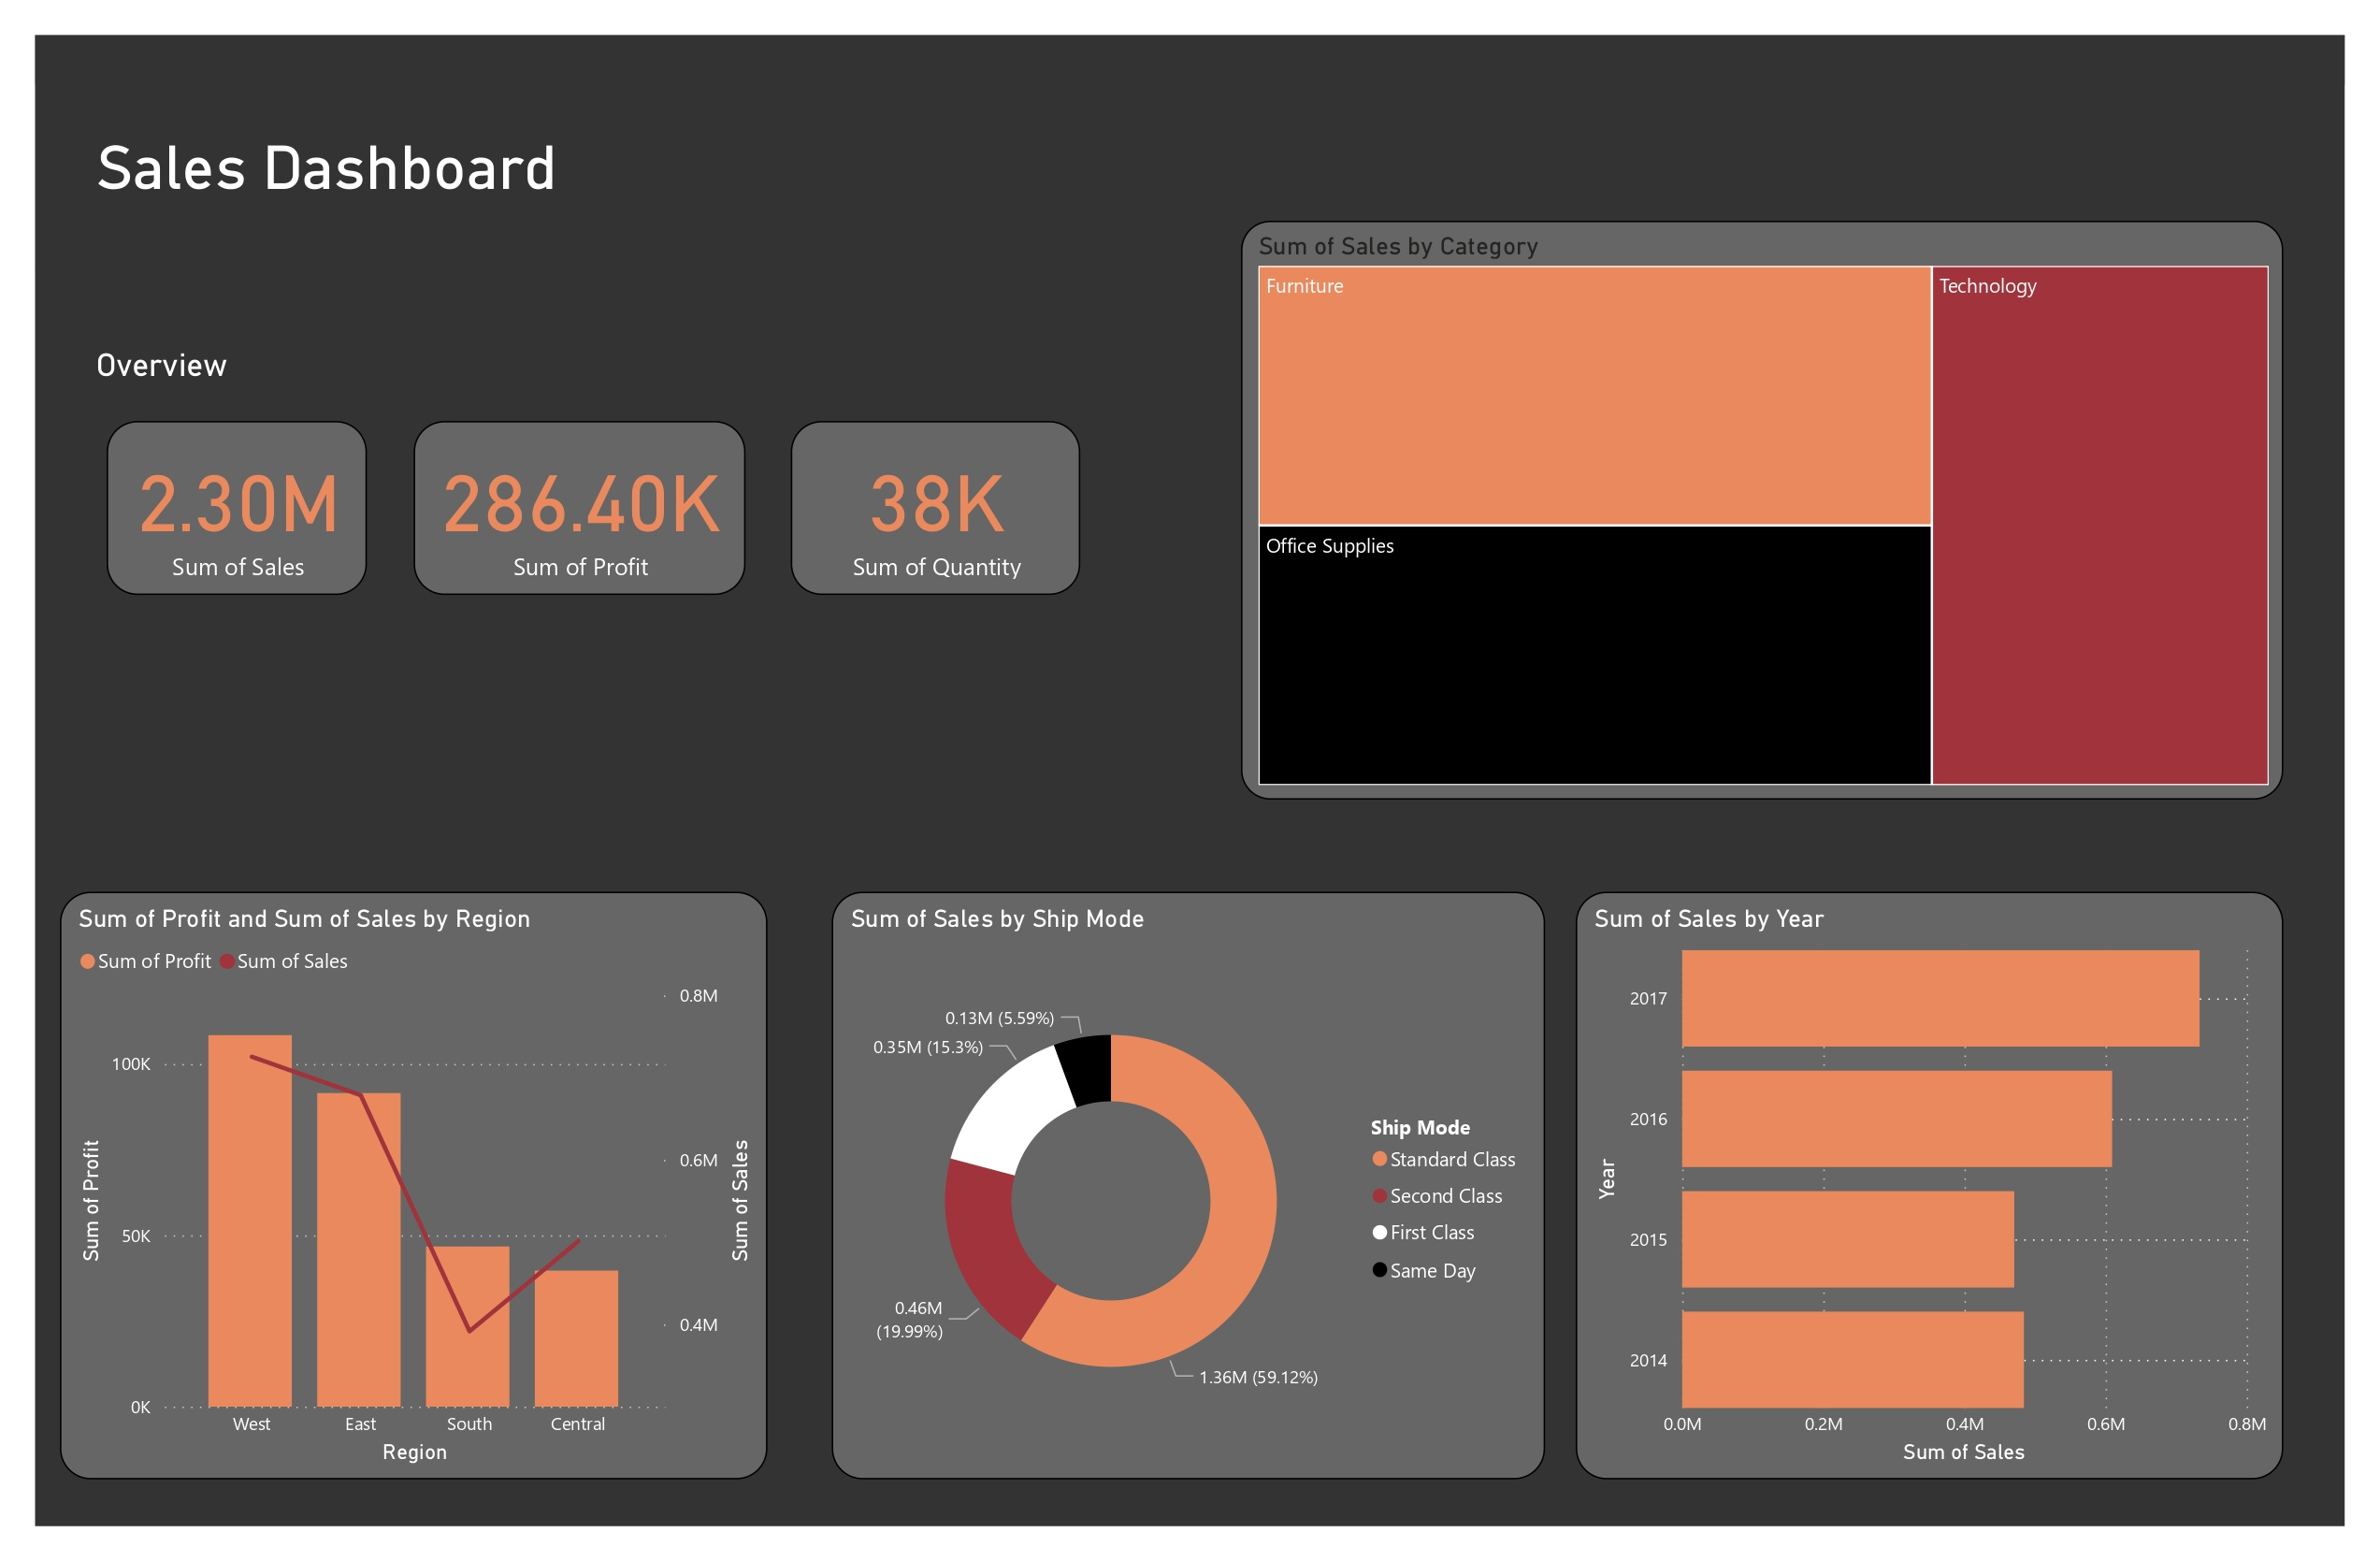

What the dashboard file says about the page in this screenshot:
{"tool":"powerbi","page":{"name":"Page 1","canvas":[1580,1020],"ordinal":0},"visuals":[{"type":"treemap","fields":{"Group":["Orders.Category"],"Values":["Sum(Table1.Sales)"]},"box":[824.9,127,713.1,396.4],"z":0},{"type":"card","fields":{"Values":["Sum(Table1.Sales)"]},"box":[49.1,264.2,177.9,118.6],"z":1000},{"type":"donutChart","fields":{"Category":["Table1.Ship Mode"],"Y":["Sum(Table1.Sales)"]},"box":[545.4,586.1,487.8,401.4],"z":2000},{"type":"lineClusteredColumnComboChart","fields":{"Category":["Table1.Region"],"Y2":["Sum(Table1.Sales)"],"Y":["Sum(Table1.Profit)"]},"box":[16.9,586.1,484.4,401.4],"z":3000},{"type":"card","fields":{"Values":["Sum(Table1.Profit)"]},"box":[259.2,264.2,227,118.6],"z":4000},{"type":"card","fields":{"Values":["Sum(Table1.Quantity)"]},"box":[516.6,264.2,198.2,118.6],"z":5000},{"type":"clusteredBarChart","fields":{"Category":["Table1.Order Date.Variation.Date Hierarchy.Year"],"Y":["Sum(Table1.Sales)"]},"box":[1053.6,586.1,484.4,401.4],"z":6000},{"type":"textbox","title":"Sales Dashboard","box":[37.3,66.1,370.9,120.3],"z":6001},{"type":"textbox","title":"Overview","box":[37.3,213.4,198.2,30.5],"z":6002}]}

Visuals, with their boxes in screenshot pixels (x1, y1, x2, y2):
treemap - Orders.Category x Sum(Table1.Sales): l=1239, t=195, r=2338, b=806
card - Sum(Table1.Sales): l=45, t=407, r=319, b=589
donutChart - Table1.Ship Mode x Sum(Table1.Sales): l=809, t=903, r=1560, b=1521
lineClusteredColumnComboChart - Table1.Region x Sum(Table1.Sales): l=0, t=903, r=741, b=1521
card - Sum(Table1.Profit): l=368, t=407, r=718, b=589
card - Sum(Table1.Quantity): l=765, t=407, r=1070, b=589
clusteredBarChart - Table1.Order Date.Variation.Date Hierarchy.Year x Sum(Table1.Sales): l=1592, t=903, r=2338, b=1521
"Sales Dashboard" textbox: l=26, t=102, r=598, b=287
"Overview" textbox: l=26, t=328, r=332, b=376
